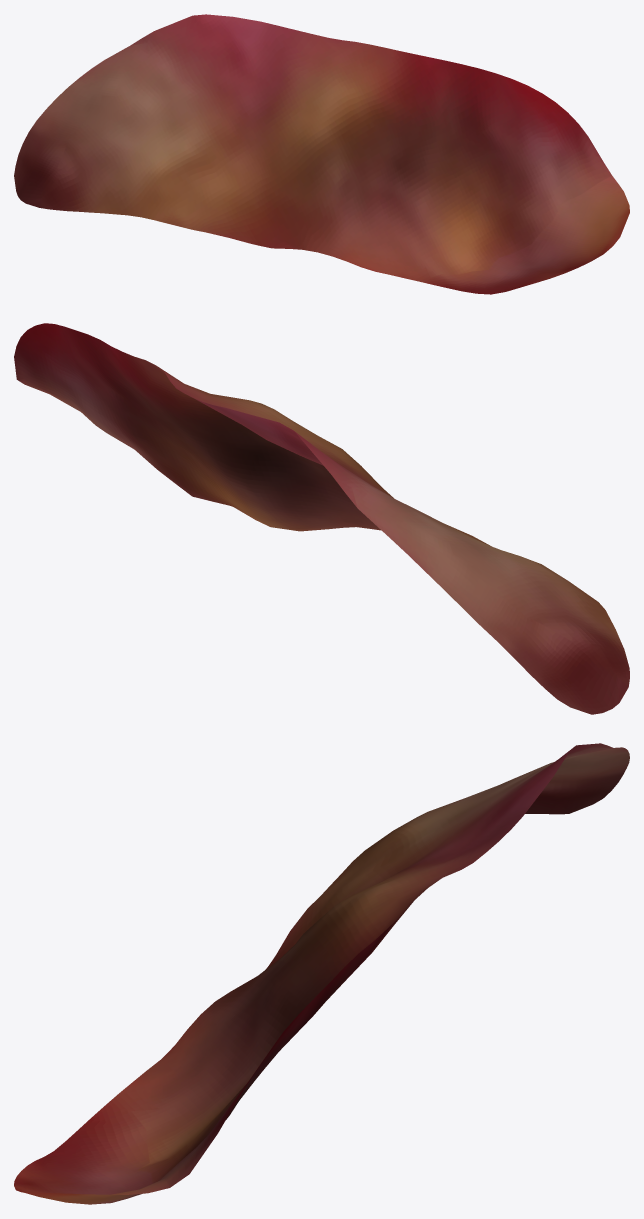
Rendered from StomaMaceracijaNekroze.fbx.
3 renders of one model, top to bottom at view 1: azimuth 30°, elevation 25°; view 2: azimuth 150°, elevation 25°; view 3: azimuth 270°, elevation 25°, orthographic. The views are drawn at different scales.
Visible parts, largest first — view 1: StomamaceracijaNekroze; view 2: StomamaceracijaNekroze; view 3: StomamaceracijaNekroze.
Boxes of the visible parts, x1,y1,x2,y2 form: StomamaceracijaNekroze: [14, 14, 629, 294]; StomamaceracijaNekroze: [14, 323, 629, 714]; StomamaceracijaNekroze: [14, 743, 629, 1204].
Size of the model in its own units: 15.79 by 6.22 by 11.22.
Materials: 1 (1 with a texture image).
